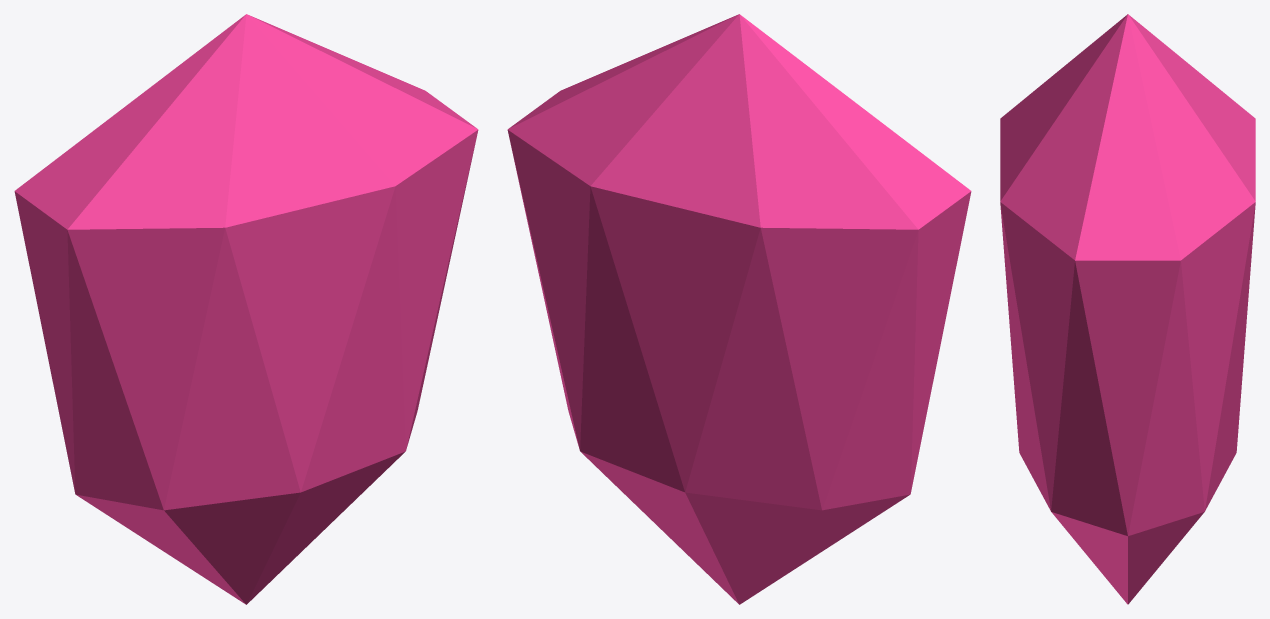
The model's file is gemi.glb.
3 views of the same model, side by side, from view 1: azimuth 30°, elevation 25°; view 2: azimuth 150°, elevation 25°; view 3: azimuth 270°, elevation 25° (orthographic).
Visible parts, largest first — view 1: Gemi; view 2: Gemi; view 3: Gemi.
Boxes of the visible parts, x1=… form: Gemi: x1=14, y1=14, x2=478, y2=604; Gemi: x1=507, y1=14, x2=971, y2=604; Gemi: x1=1000, y1=14, x2=1255, y2=604.
Size of the model in its own units: 1.44 by 1.98 by 0.7761.
